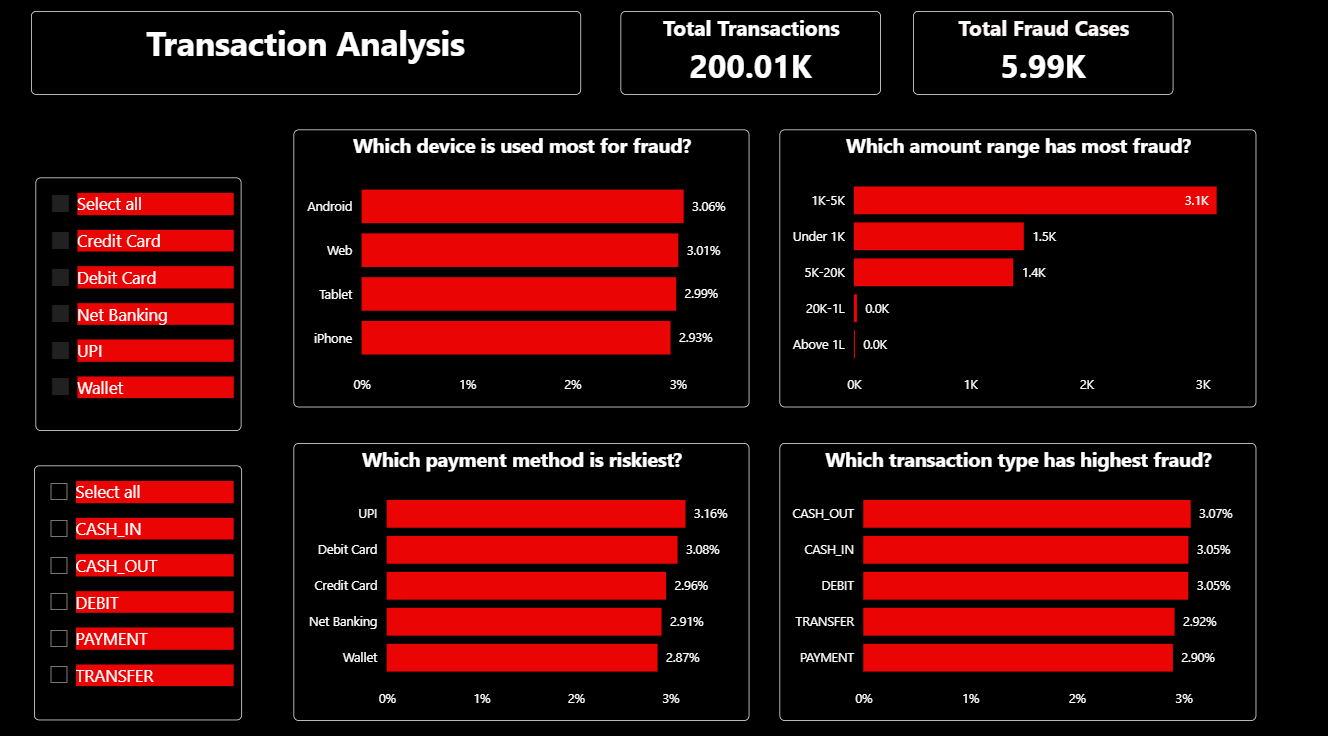

The page's visual inventory and layout, read from the dashboard file:
{"tool":"powerbi","page":{"name":"Transaction Analysis","canvas":[1280,720],"ordinal":1},"visuals":[{"type":"clusteredBarChart","title":"Which transaction type has highest fraud?","fields":{"Category":["cleaned_fraud_dataset.transaction_type"],"Y":["cleaned_fraud_dataset.Fraud Rate %"]},"box":[751.7,430,455,265],"z":0},{"type":"clusteredBarChart","title":"Which payment method is riskiest?","fields":{"Category":["cleaned_fraud_dataset.payment_method"],"Y":["cleaned_fraud_dataset.Fraud Rate %"]},"box":[288.3,430,435,265],"z":1000},{"type":"clusteredBarChart","title":"Which device is used most for fraud?","fields":{"Category":["cleaned_fraud_dataset.device_type"],"Y":["cleaned_fraud_dataset.Fraud Rate %"]},"box":[288.3,130,435,265],"z":2000},{"type":"clusteredBarChart","title":"Which amount range has most fraud?","fields":{"Category":["cleaned_fraud_dataset.Amount Range"],"Y":["Sum(cleaned_fraud_dataset.is_fraud)"]},"box":[751.7,130,455,265],"z":3000},{"type":"slicer","fields":{"Values":["cleaned_fraud_dataset.transaction_type"]},"box":[40,451.7,198.3,243.3],"z":4000},{"type":"slicer","fields":{"Values":["cleaned_fraud_dataset.payment_method"]},"box":[41.7,176.7,196.7,241.7],"z":5000},{"type":"textbox","box":[36.7,16.7,525,80],"z":6000},{"type":"card","title":"Total Transactions","fields":{"Values":["CountNonNull(cleaned_fraud_dataset.is_fraud)"]},"box":[600,16.7,248.3,80],"z":7000},{"type":"card","title":"Total Fraud Cases","fields":{"Values":["Sum(cleaned_fraud_dataset.is_fraud)"]},"box":[880,16.7,248.3,80],"z":8000}]}

Visuals, with their boxes in screenshot pixels (x1, y1, x2, y2), scaled from the page's 1280x720 canvas onto the 1328x736 screenshot:
"Which transaction type has highest fraud?" clusteredBarChart: l=780, t=440, r=1252, b=710
"Which payment method is riskiest?" clusteredBarChart: l=299, t=440, r=750, b=710
"Which device is used most for fraud?" clusteredBarChart: l=299, t=133, r=750, b=404
"Which amount range has most fraud?" clusteredBarChart: l=780, t=133, r=1252, b=404
slicer - cleaned_fraud_dataset.transaction_type: l=42, t=462, r=247, b=710
slicer - cleaned_fraud_dataset.payment_method: l=43, t=181, r=247, b=428
textbox: l=38, t=17, r=583, b=99
"Total Transactions" card: l=622, t=17, r=880, b=99
"Total Fraud Cases" card: l=913, t=17, r=1171, b=99
